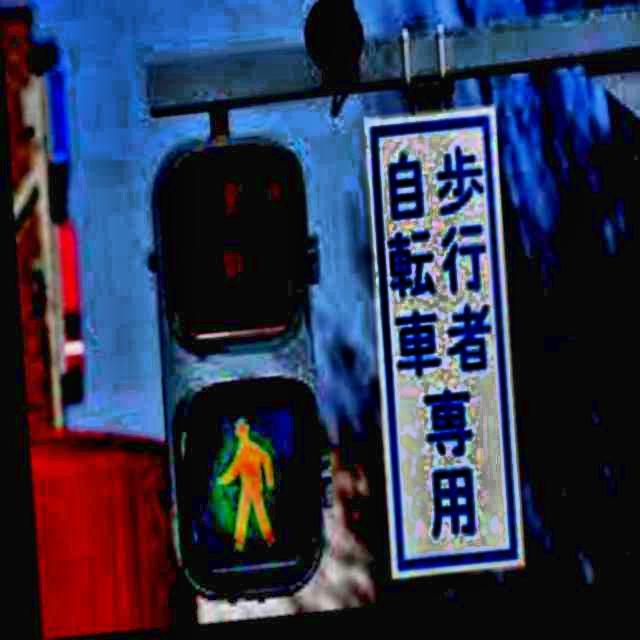semaforo pedestre: (70, 57, 458, 635)
